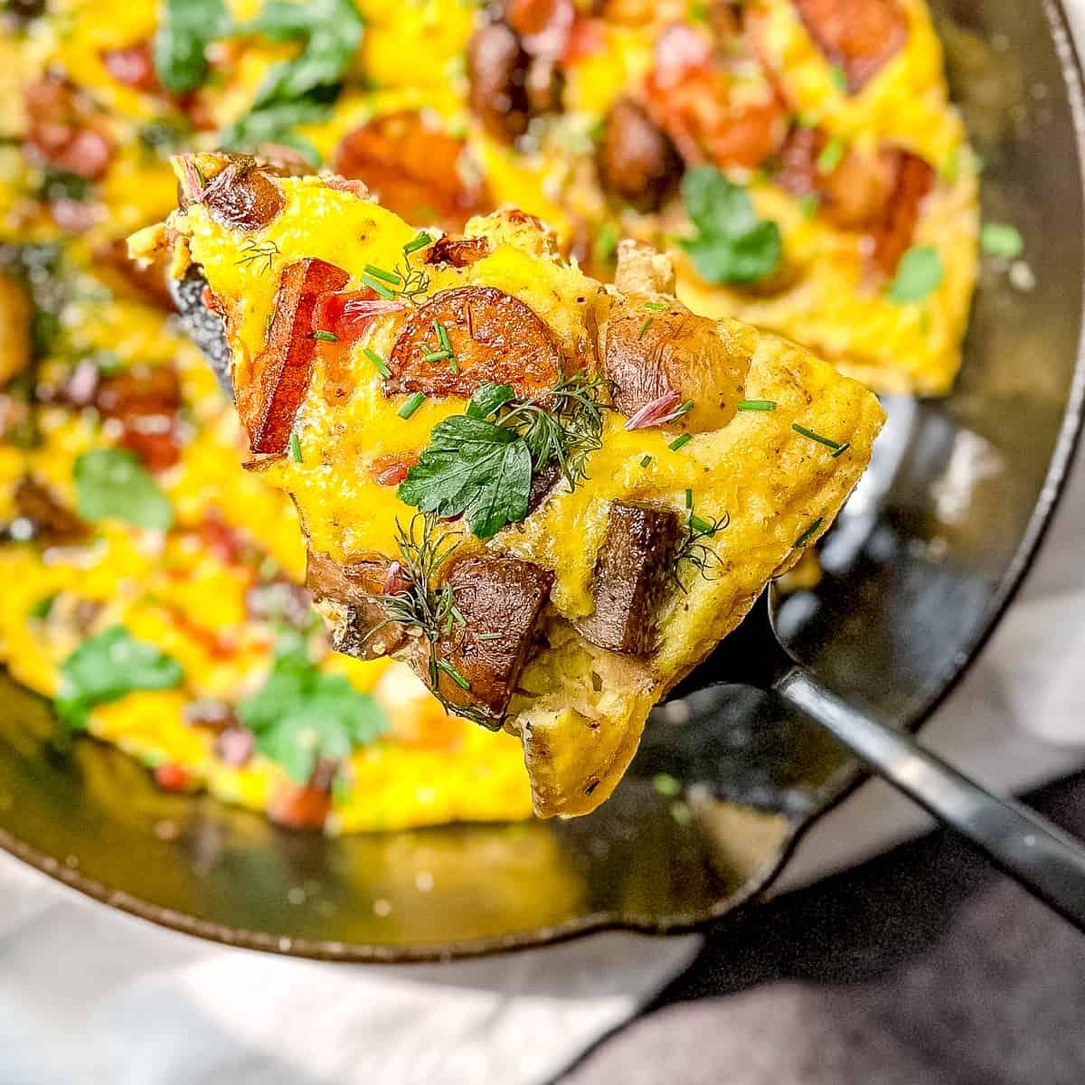omelette: (7, 4, 931, 792)
